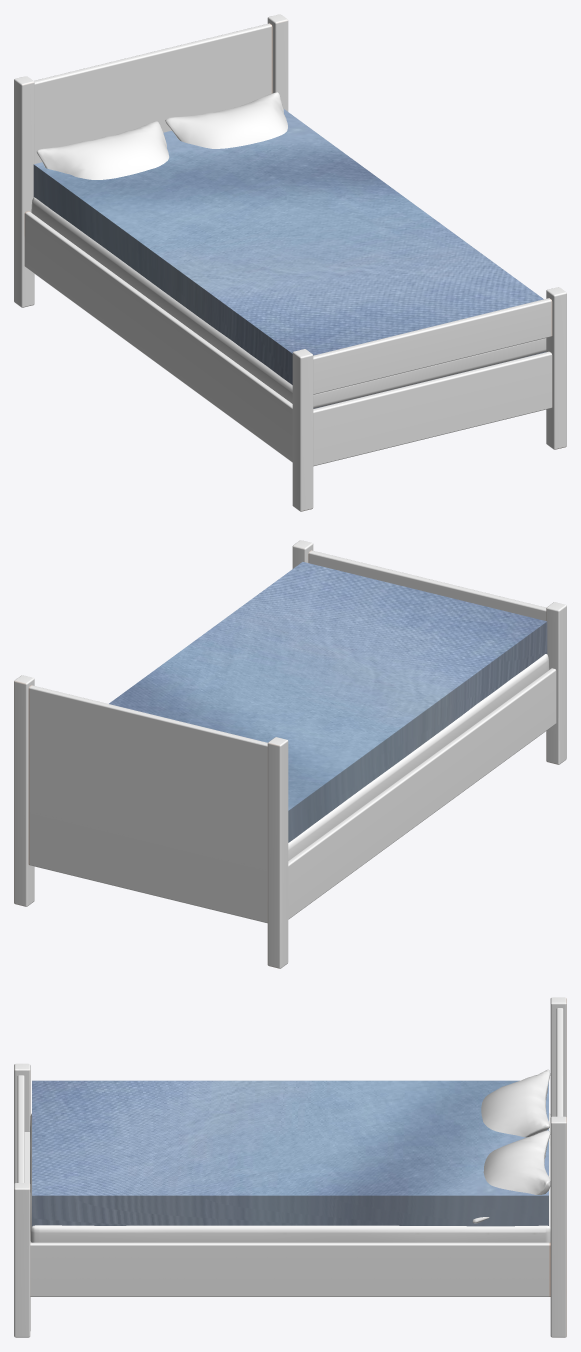
File: cama_casal.glb
3 views of the same model, one above another, from view 1: azimuth 30°, elevation 25°; view 2: azimuth 150°, elevation 25°; view 3: azimuth 270°, elevation 25° (orthographic). The views are drawn at different scales.
Parts seen in each view (by area): view 1: node_id32, node_id29; view 2: node_id32, node_id29; view 3: node_id29, node_id32.
Part boxes in pixels (x1=…): node_id32: x1=14, y1=14, x2=566, y2=511; node_id29: x1=33, y1=109, x2=545, y2=408; node_id32: x1=14, y1=540, x2=566, y2=968; node_id29: x1=109, y1=562, x2=547, y2=842; node_id29: x1=32, y1=1080, x2=548, y2=1226; node_id32: x1=14, y1=997, x2=566, y2=1337.
Size of the model in its own units: 0.512 by 0.41 by 0.9526.
2 materials, 2 textured.
